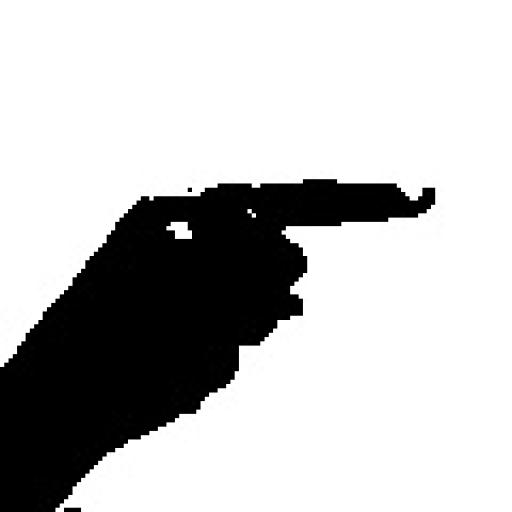index_right: (3, 177, 437, 408)
